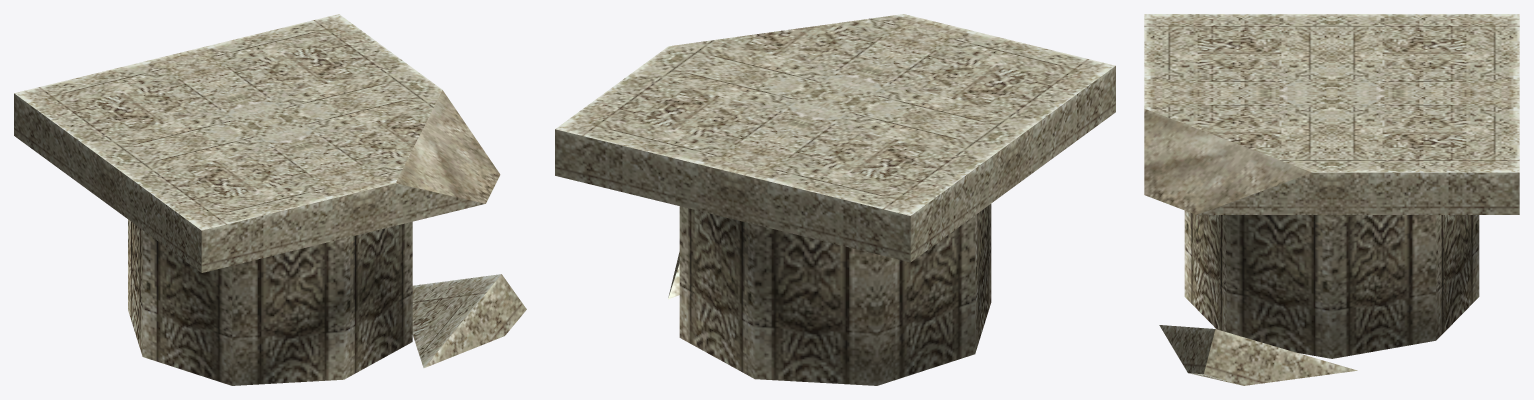
File: general_obj_bigtoewr12.fbx
The picture shows the model from 3 angles, left to right: view 1: azimuth 30°, elevation 25°; view 2: azimuth 150°, elevation 25°; view 3: azimuth 270°, elevation 25°; orthographic projection. The views are drawn at different scales.
Parts seen in each view (by area): view 1: Sphere01; view 2: Sphere01; view 3: Sphere01.
Boxes of the visible parts, x1=… form: Sphere01: x1=14, y1=14, x2=526, y2=385; Sphere01: x1=555, y1=14, x2=1115, y2=385; Sphere01: x1=1144, y1=14, x2=1519, y2=385.
Bounding box in the file's own units: 4.37 × 2.46 × 4.
